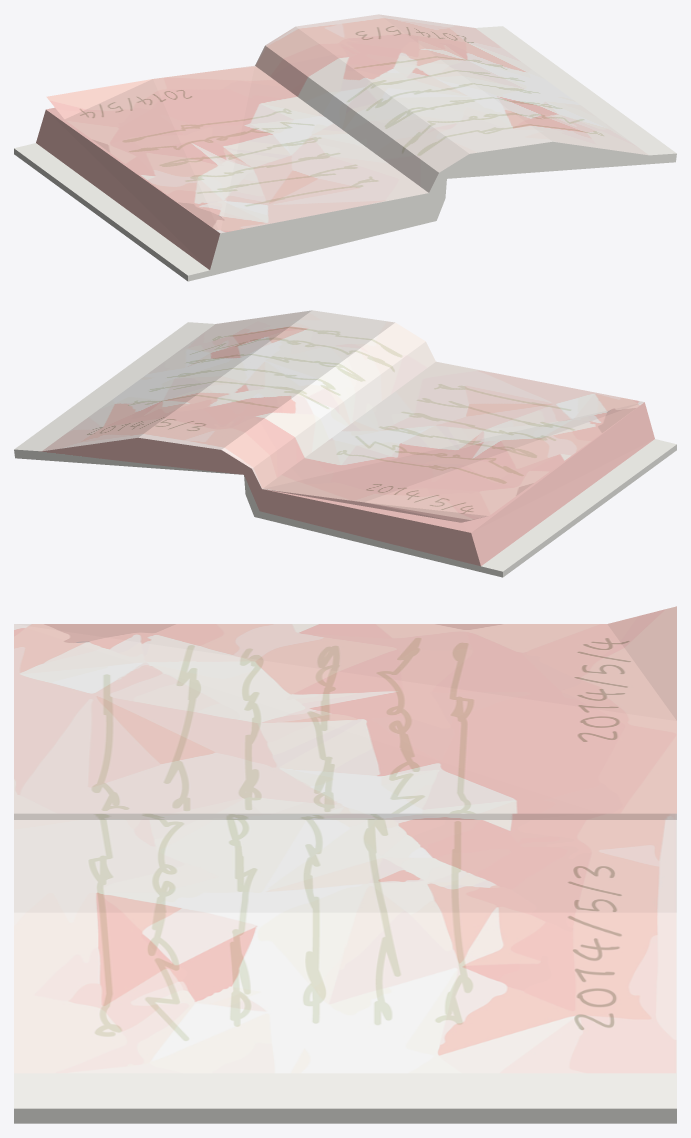
The model's file is diary.fbx.
3 renders of one model, top to bottom at view 1: azimuth 30°, elevation 25°; view 2: azimuth 150°, elevation 25°; view 3: azimuth 270°, elevation 25°, orthographic. The views are drawn at different scales.
Parts seen in each view (by area): view 1: pCube155; view 2: pCube155; view 3: pCube155.
Part boxes in pixels (x1,y1,x2,y2): pCube155: [14, 14, 676, 281]; pCube155: [14, 310, 676, 577]; pCube155: [14, 606, 676, 1123].
Bounding box in the file's own units: 24.73 × 2.85 × 15.25.
